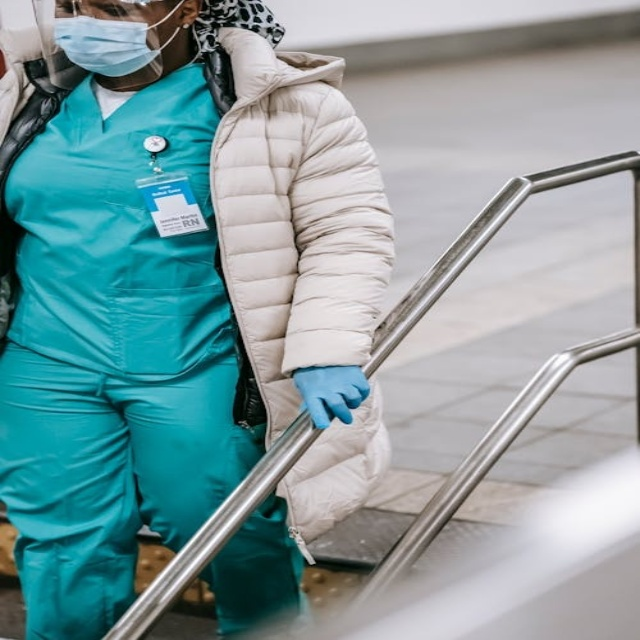Guantes: (292, 364, 370, 428)
Mascara: (52, 4, 169, 76)
